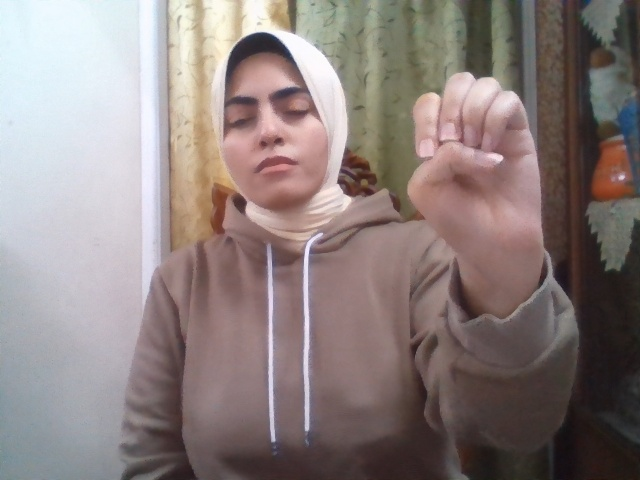E: (407, 73, 543, 261)
